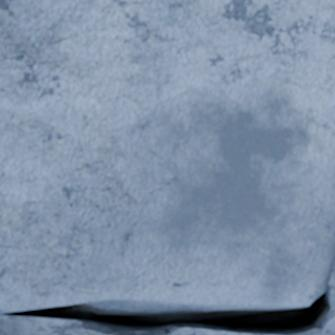brick: (0, 0, 334, 312)
crack: (2, 289, 332, 334)
